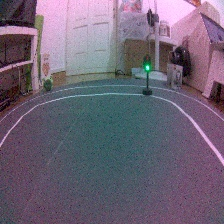green: (141, 54, 156, 97)
